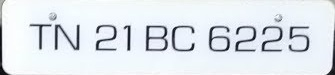character: (53, 22, 80, 52), (169, 23, 195, 52), (94, 22, 119, 52), (27, 21, 51, 50), (144, 23, 168, 52), (208, 24, 232, 53), (233, 24, 257, 53), (287, 23, 310, 53), (260, 24, 283, 53), (122, 23, 133, 51)
